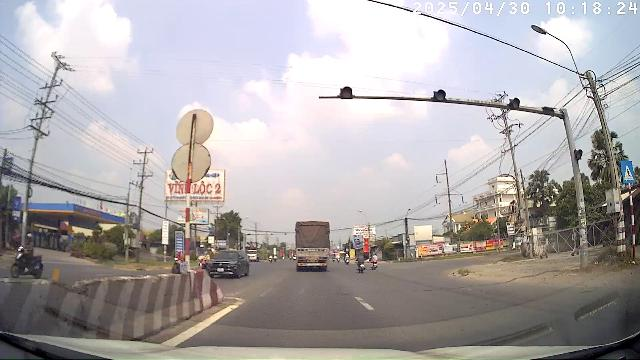423a-duong-nguoi-di-bo-sang-ngang-1: (622, 160, 634, 182)
